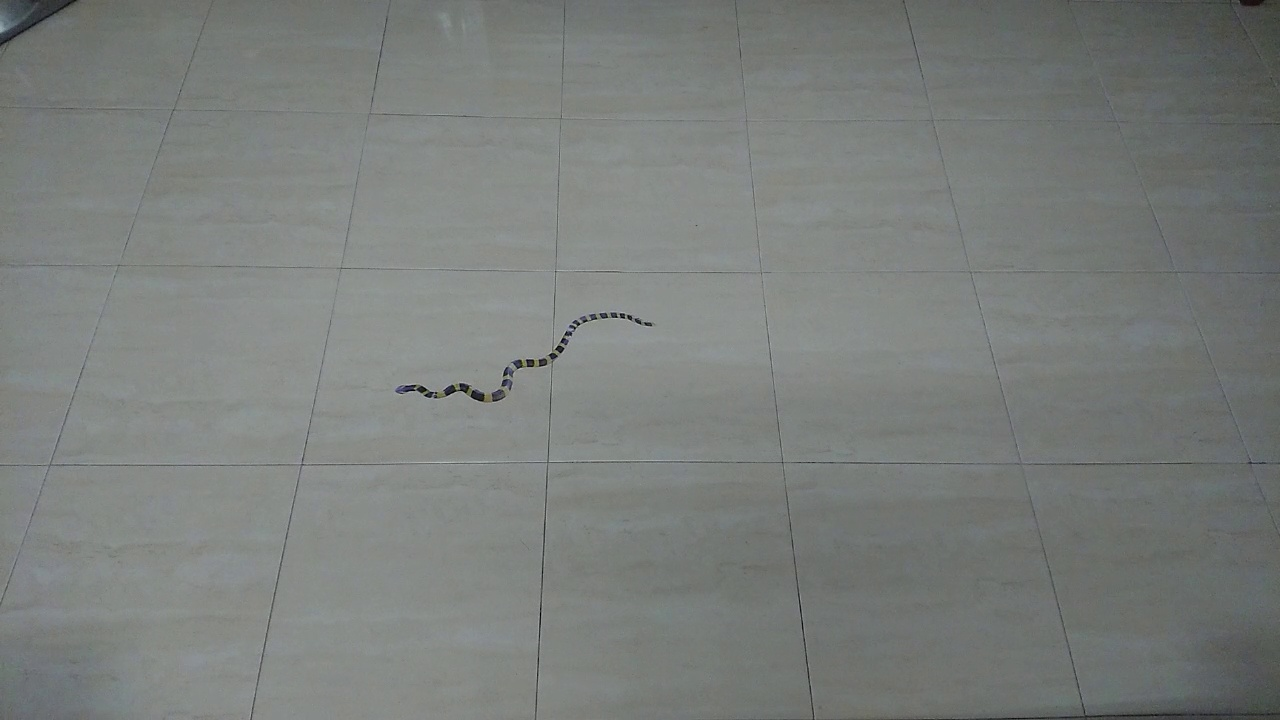snake: (381, 300, 669, 417)
